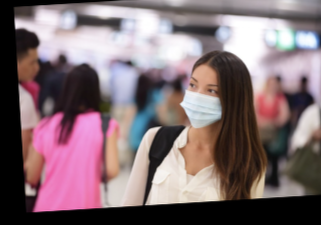with_mask: (177, 73, 223, 129)
